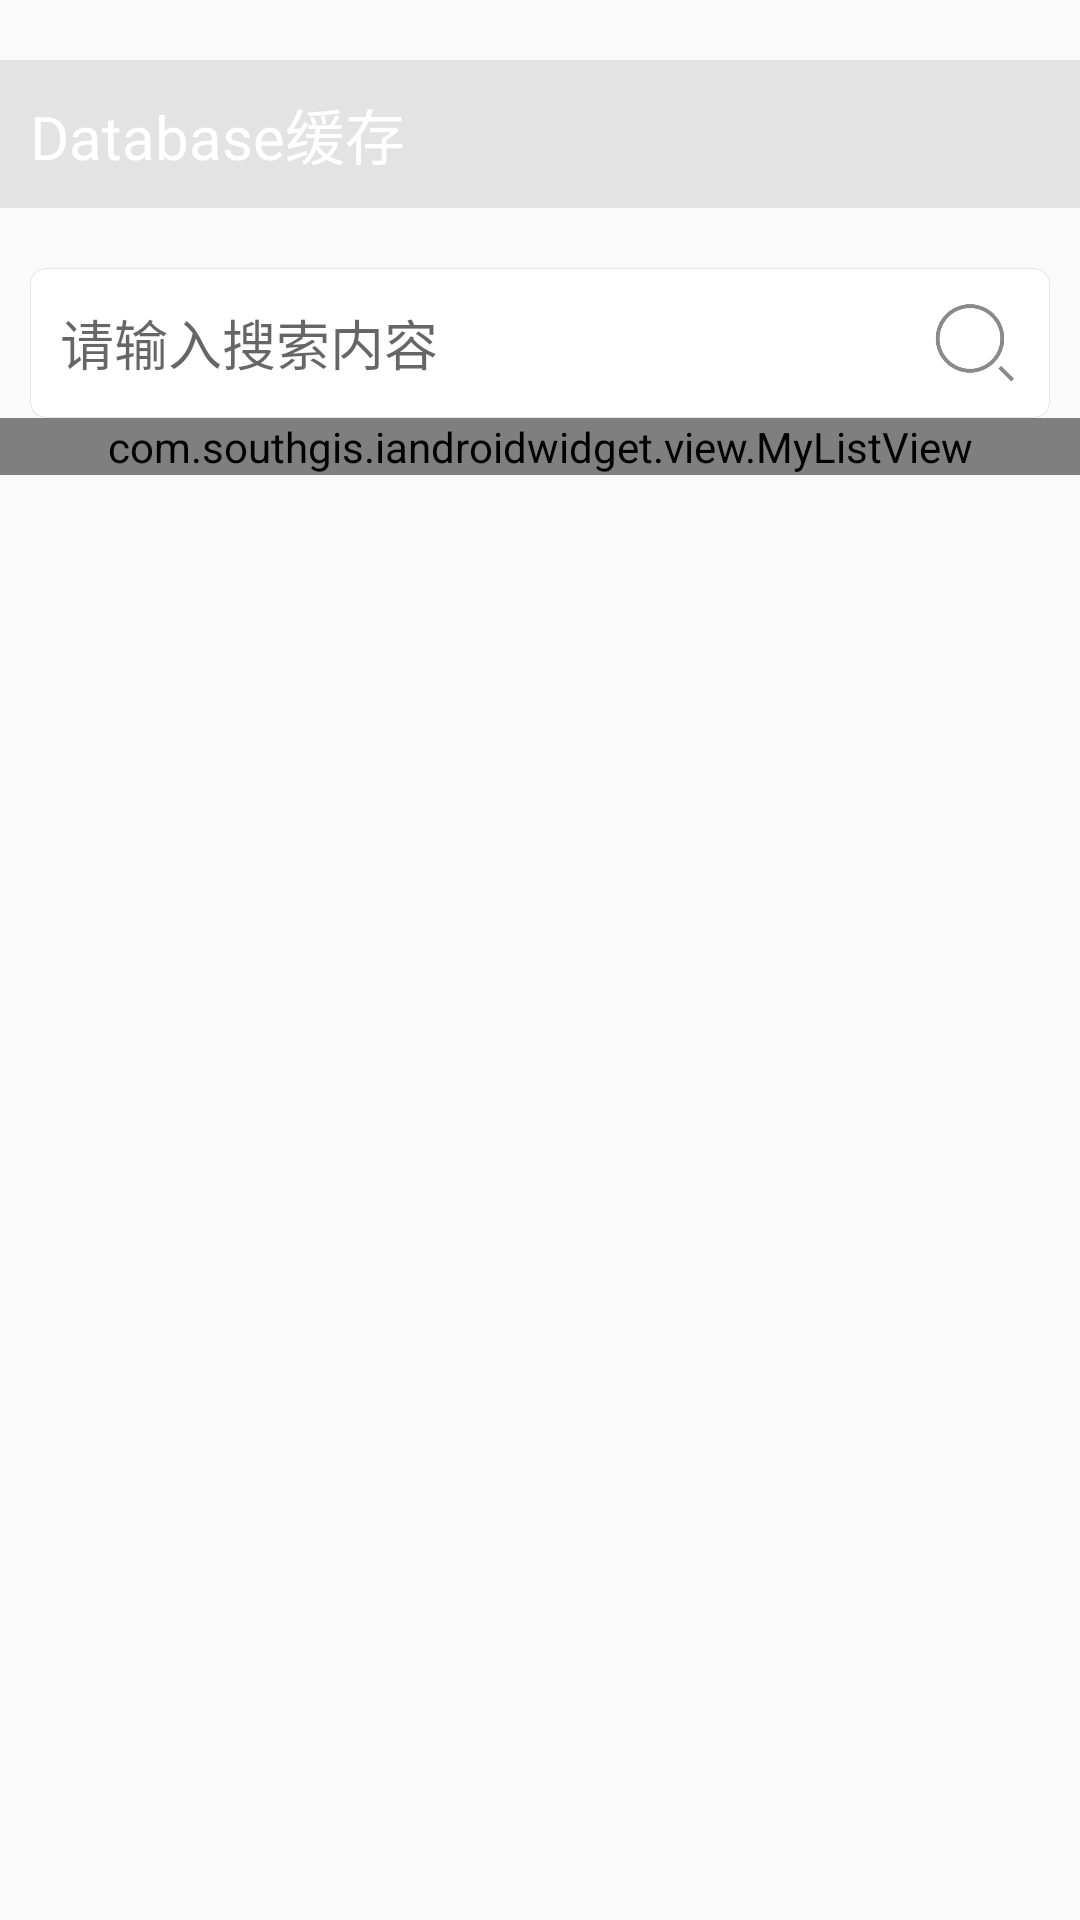

Named icons in this screenshot (1080 x 1920) and their centers, point (x, y):
search: point (975, 342)
